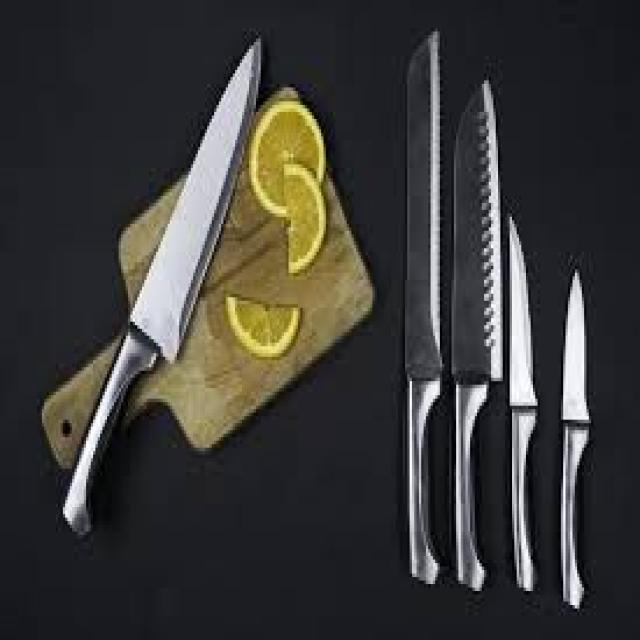Knife: (63, 38, 258, 532), (454, 80, 500, 588), (405, 28, 442, 584), (507, 217, 538, 591), (561, 269, 589, 605)
